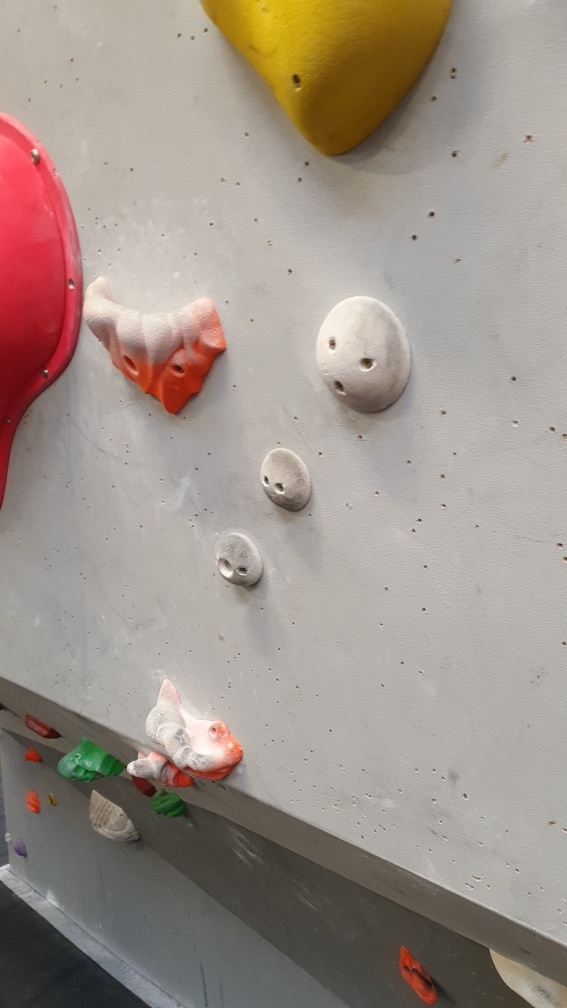Jug: (79, 274, 231, 426), (150, 676, 244, 786)
Sloper: (316, 295, 415, 415), (260, 445, 312, 513), (217, 532, 265, 588)
